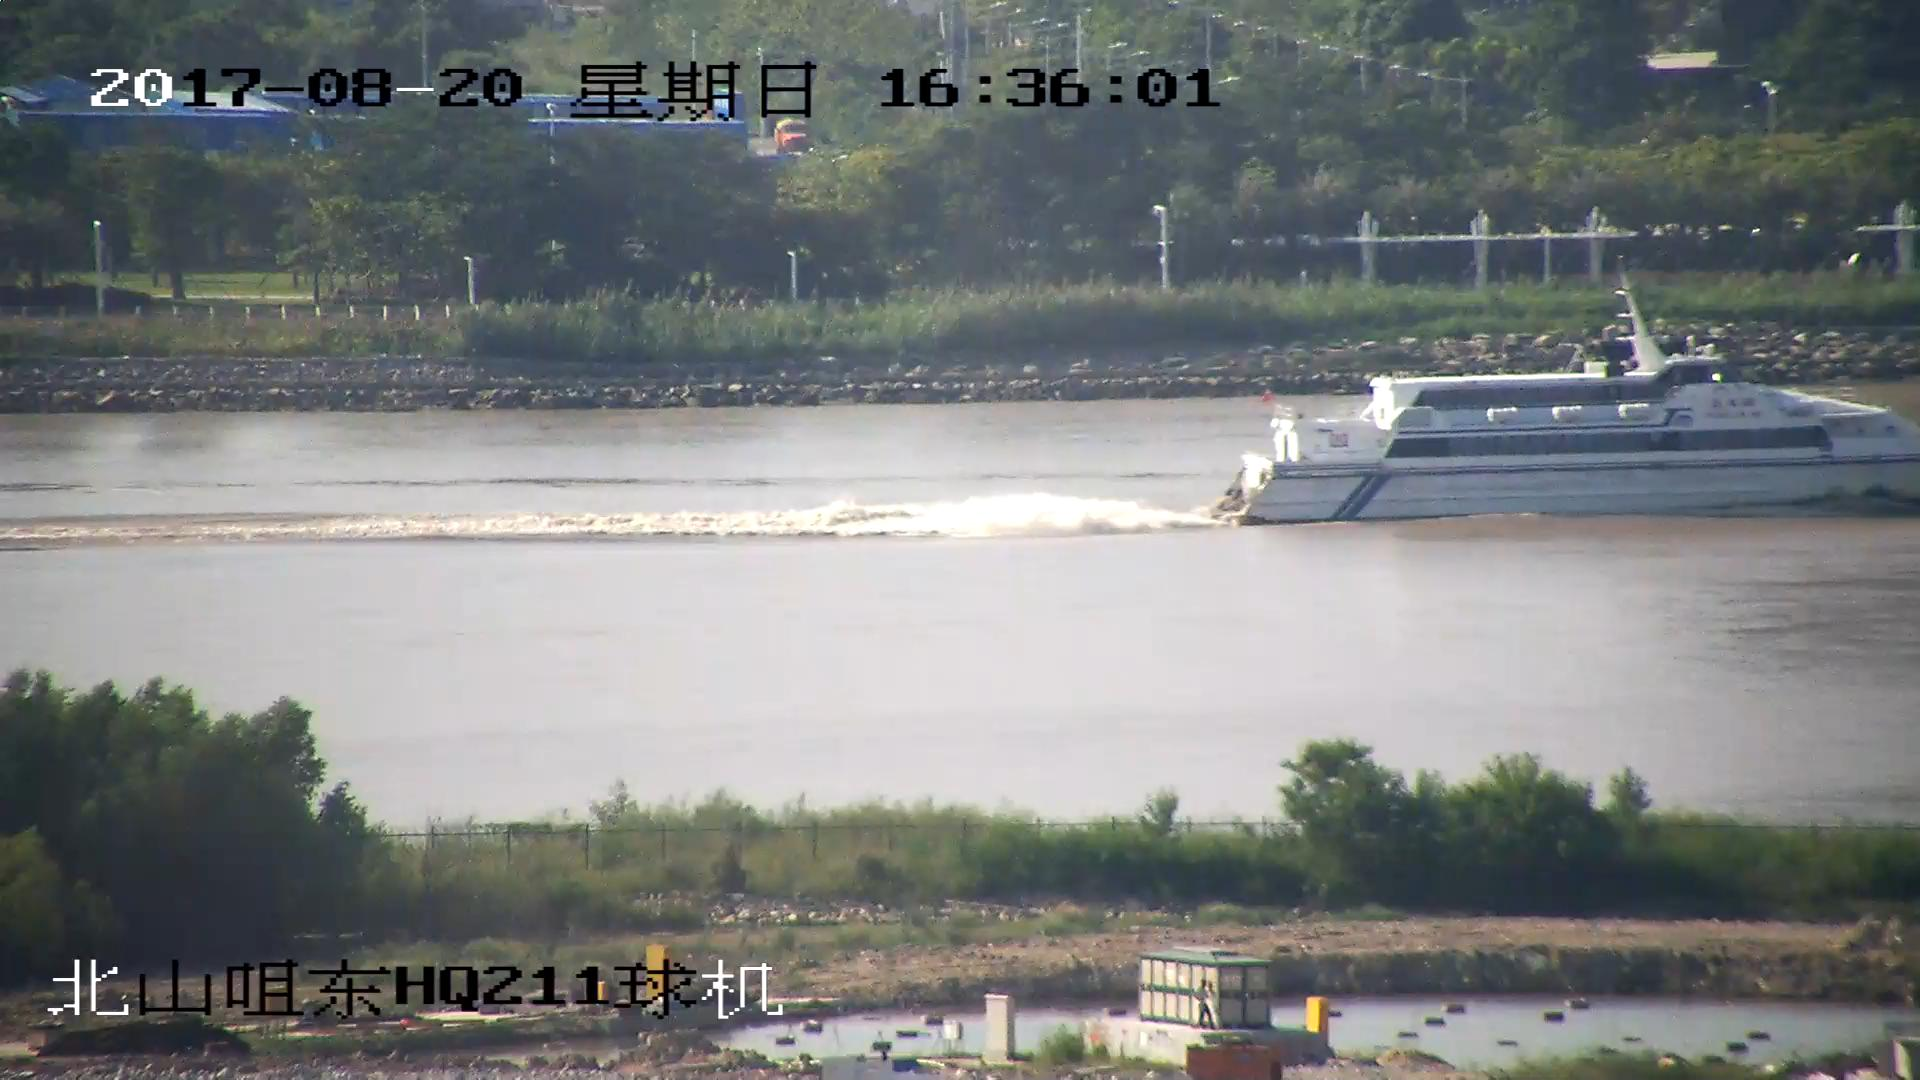passenger ship: (1218, 287, 1920, 518)
